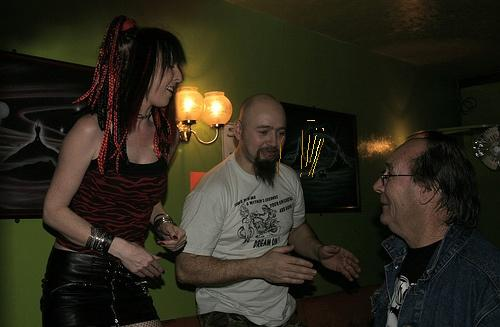tampered: (279, 121, 324, 177)
